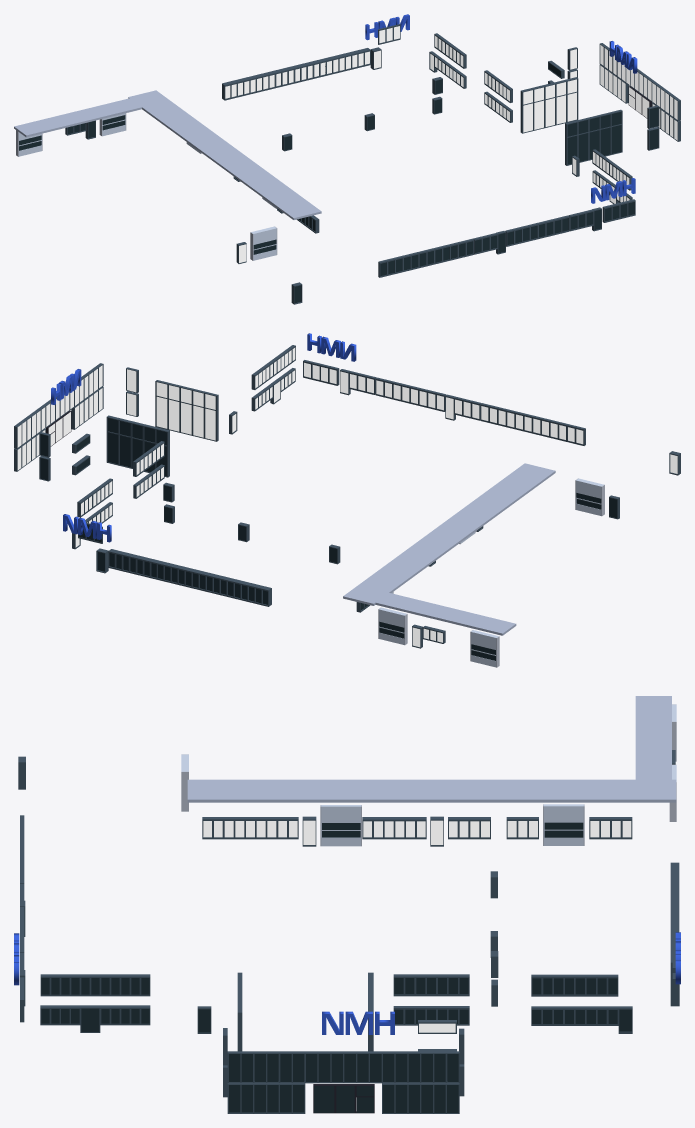
File: hauptgebaeude.glb
3 views of the same model, one above another, from view 1: azimuth 30°, elevation 25°; view 2: azimuth 150°, elevation 25°; view 3: azimuth 270°, elevation 25° (orthographic). The views are drawn at different scales.
Visible parts, largest first — view 1: Cube.599, Cube.115, Cube.192, Cube.344, Cube.173, Cube.052, Cube.172, Cube.050, Cube.174, Cube.028, Cube.145, Cube.074 (+12 smaller); view 2: Cube.599, Cube.115, Cube.192, Cube.344, Cube.172, Cube.052, Cube.173, Cube.050, Cube.028, Cube.174, Cube.145, Cube.498 (+16 smaller); view 3: Cube.599, Cube.192, Cube.344, Cube.056, Cube.072, Cube.074, Cube.112, Cube.107, Cube.084, Cube.110, Cube.141, Cube.114 (+11 smaller).
Boxes of the visible parts, x1,y1,x2,y2 form: Cube.599: [128, 90, 321, 219]; Cube.115: [222, 48, 370, 100]; Cube.192: [599, 43, 680, 120]; Cube.344: [14, 98, 141, 137]; Cube.173: [520, 92, 578, 133]; Cube.052: [378, 238, 473, 277]; Cube.172: [565, 124, 622, 165]; Cube.050: [505, 215, 569, 246]; Cube.174: [520, 77, 578, 105]; Cube.028: [565, 109, 622, 137]; Cube.145: [250, 226, 277, 260]; Cube.074: [599, 64, 628, 103]; Cube.599: [343, 463, 555, 605]; Cube.115: [108, 549, 271, 606]; Cube.192: [14, 363, 103, 448]; Cube.344: [375, 593, 516, 635]; Cube.172: [155, 396, 218, 441]; Cube.052: [480, 403, 585, 445]; Cube.173: [106, 431, 169, 477]; Cube.050: [375, 377, 446, 411]; Cube.028: [155, 380, 218, 410]; Cube.174: [106, 415, 169, 446]; Cube.145: [575, 478, 604, 516]; Cube.498: [378, 607, 407, 645]; Cube.599: [187, 779, 676, 802]; Cube.192: [227, 1051, 459, 1083]; Cube.344: [635, 696, 671, 779]; Cube.056: [40, 974, 150, 996]; Cube.072: [227, 1083, 305, 1113]; Cube.074: [382, 1083, 459, 1113]; Cube.112: [202, 817, 298, 839]; Cube.107: [531, 974, 618, 996]; Cube.084: [313, 1084, 374, 1113]; Cube.110: [393, 974, 469, 996]; Cube.141: [320, 805, 361, 846]; Cube.114: [543, 804, 584, 845].
Size of the model in its own units: 71.2 by 8.21 by 53.9.
